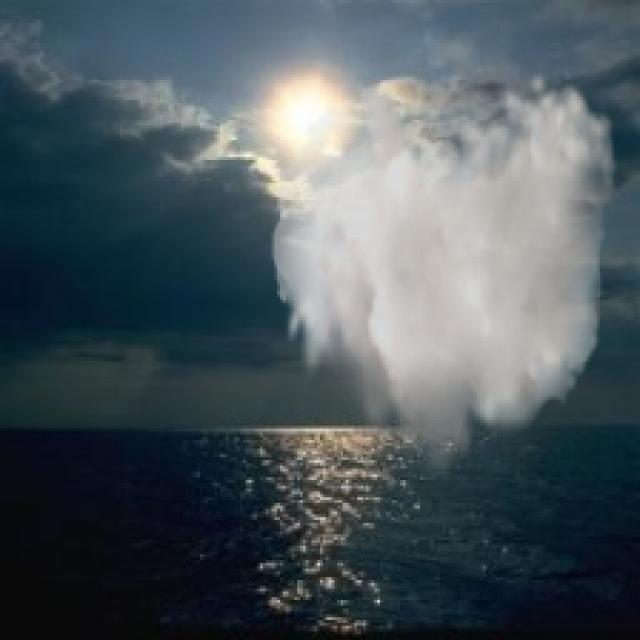Smoke: (272, 71, 617, 486)
